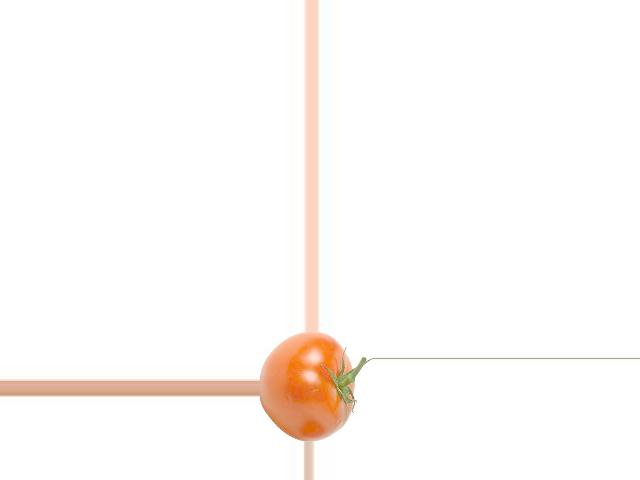tomato: (260, 332, 355, 442)
